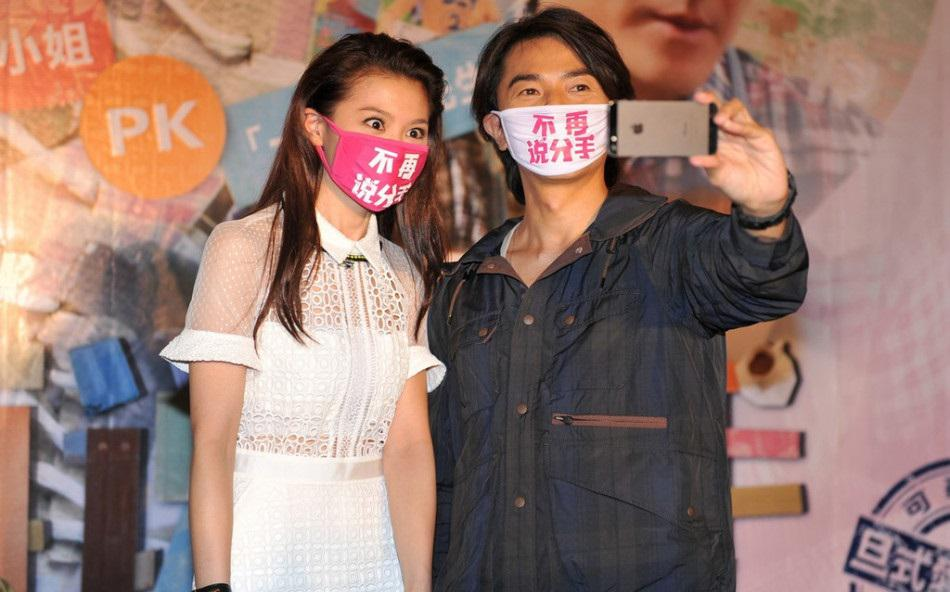OK: (506, 62, 618, 174), (332, 100, 436, 204)
